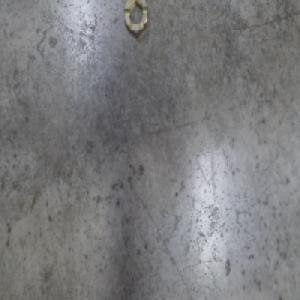Nut: (123, 0, 150, 37)
